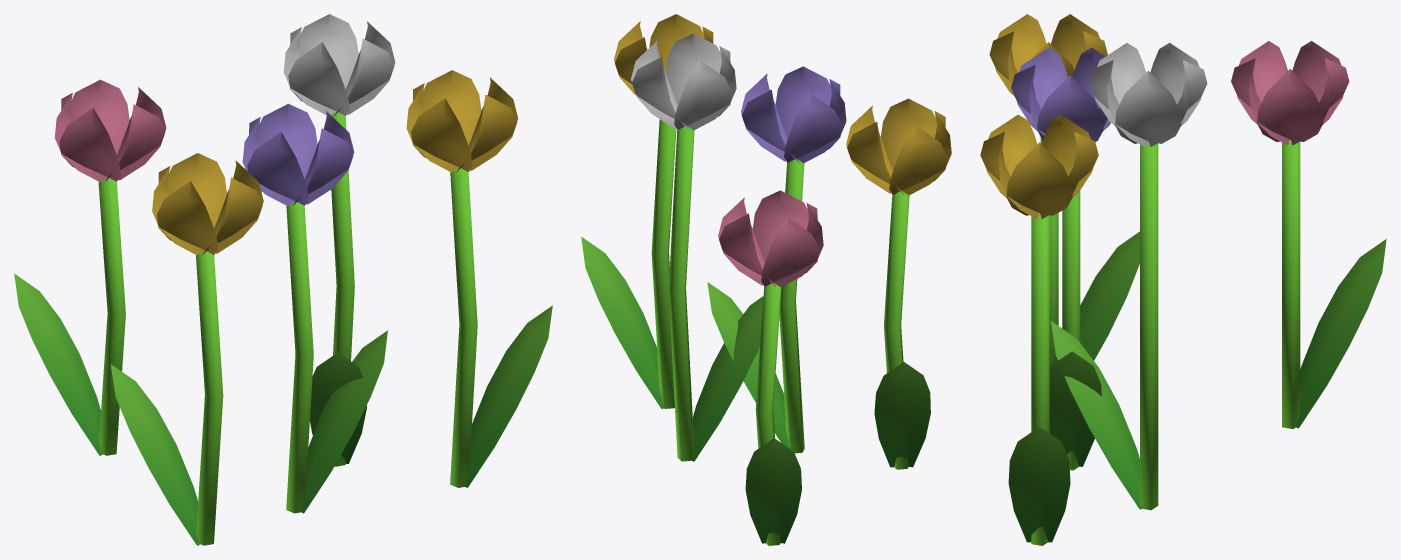
The model's file is tulips_mix.glb.
The picture shows the model from 3 angles, left to right: view 1: azimuth 30°, elevation 25°; view 2: azimuth 150°, elevation 25°; view 3: azimuth 270°, elevation 25°; orthographic projection. The views are drawn at different scales.
Visible parts, largest first — view 1: tulips_mix; view 2: tulips_mix; view 3: tulips_mix.
Boxes of the visible parts, x1,y1,x2,y2 form: tulips_mix: (14, 14, 552, 545); tulips_mix: (581, 14, 951, 545); tulips_mix: (980, 14, 1386, 545).
Bounding box in the file's own units: 0.4282 × 0.4457 × 0.3637.
